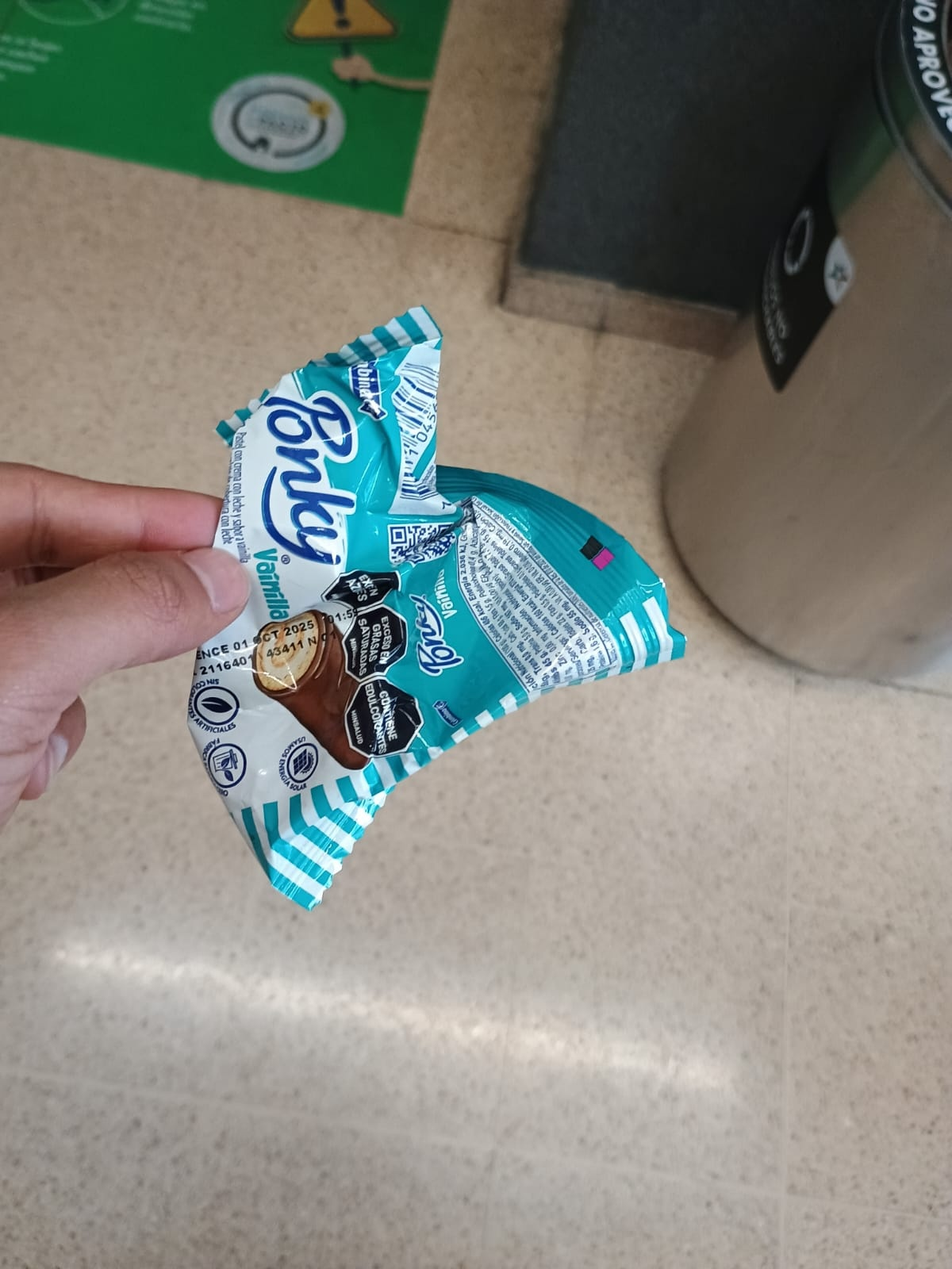Ordinario: (186, 306, 690, 910)
